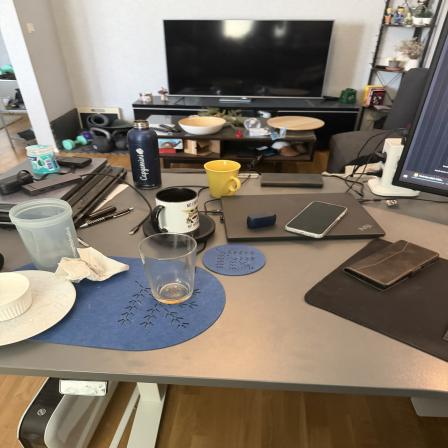blue_bottle: (125, 119, 167, 190)
phone: (352, 238, 440, 290), (287, 196, 351, 242), (262, 171, 328, 187)
yellow_cup: (206, 158, 243, 198)
